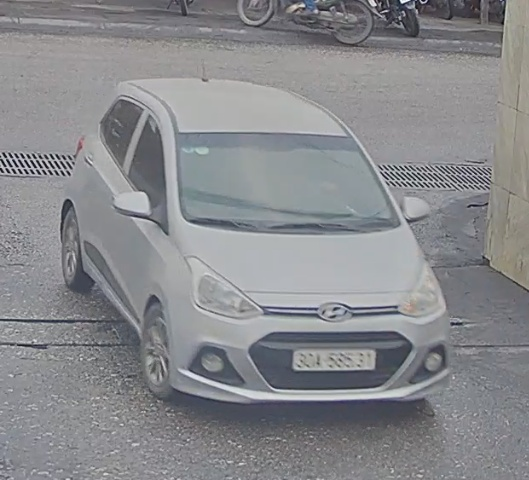vehicle plate: (286, 345, 381, 372)
